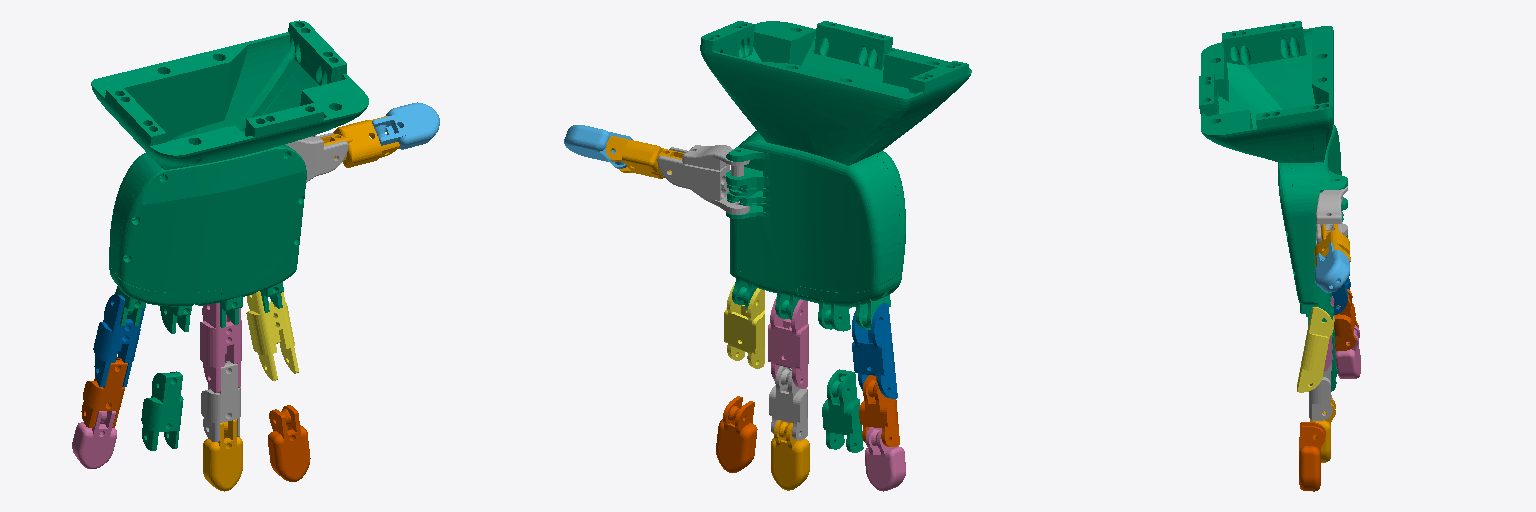
robot.urdf — hand_assembly:
<robot name="hand_assembly">
  <link name="world"/>
  <link name="world_frame">
    <inertial>
      <origin xyz="0 0 0" rpy="0 0 0"/>
      <mass value="0.0019949722"/>
      <inertia ixx="1.994972e-03" ixy="0.000000e+00" ixz="0.000000e+00" iyy="1.994972e-03" iyz="0.000000e+00" izz="1.994972e-03"/>
    </inertial>
  </link>
  <link name="Palm_Link">
    <inertial>
      <origin xyz="0.0044980786 0.0030506548 -0.017010718" rpy="-0.0049900126 -0.26403325 1.5394964"/>
      <mass value="0.89752977"/>
      <inertia ixx="1.994972e-03" ixy="-6.649047e-20" ixz="-5.026542e-19" iyy="1.994972e-03" iyz="3.768373e-19" izz="1.994972e-03"/>
    </inertial>
    <visual>
      <origin xyz="0.0044980786 0.0030506548 -0.017010718" rpy="-0.0049900116 -0.26403325 1.5394964"/>
      <geometry>
        <mesh filename="meshes/Palm.stl"/>
      </geometry>
    </visual>
  </link>
  <link name="Index_MCP_Link">
    <inertial>
      <origin xyz="0.0288724 -1.28993e-08 0.00378475" rpy="0 -1.5678519 3.1415927"/>
      <mass value="0.0065417532"/>
      <inertia ixx="1.994972e-03" ixy="0.000000e+00" ixz="-4.417642e-19" iyy="1.994972e-03" iyz="0.000000e+00" izz="1.994972e-03"/>
    </inertial>
    <visual>
      <origin xyz="-0.017010707 0.0049997573 0.00094885055" rpy="-0.025856405 -1.5662761 -3.1157306"/>
      <geometry>
        <mesh filename="meshes/Index_MCP.stl"/>
      </geometry>
    </visual>
  </link>
  <link name="Index_DIP_Link">
    <inertial>
      <origin xyz="0.000734414 -1.34435e-07 0.00333493" rpy="3.1415927 -1.5198579 0"/>
      <mass value="0.0059954899"/>
      <inertia ixx="1.994972e-03" ixy="0.000000e+00" ixz="-2.097920e-19" iyy="1.994972e-03" iyz="0.000000e+00" izz="1.994972e-03"/>
    </inertial>
    <visual>
      <origin xyz="-0.012089813 0.0049996406 0.00056263186" rpy="-3.1381599 -1.528242 -0.0034200715"/>
      <geometry>
        <mesh filename="meshes/Index_DIP.stl"/>
      </geometry>
    </visual>
  </link>
  <link name="Index_PIP_Link">
    <inertial>
      <origin xyz="-0.0274083 1.00211e-07 0.00320314" rpy="-1.0726051e-05 -1.5149729 -3.1415927"/>
      <mass value="0.0071215918"/>
      <inertia ixx="1.994972e-03" ixy="-5.263369e-24" ixz="6.166064e-19" iyy="1.994972e-03" iyz="-3.563358e-24" izz="1.994972e-03"/>
    </inertial>
    <visual>
      <origin xyz="-0.01421751 0.00040002873 -0.0013973391" rpy="-6.5290896e-06 -1.5384487 3.1415927"/>
      <geometry>
        <mesh filename="meshes/Index_PIP.stl"/>
      </geometry>
    </visual>
  </link>
  <link name="Middle_MCP_Link">
    <inertial>
      <origin xyz="0.0288724 -9.49408e-09 0.00378477" rpy="0 -1.5678519 3.1415927"/>
      <mass value="0.0065417332"/>
      <inertia ixx="1.994972e-03" ixy="0.000000e+00" ixz="-4.417642e-19" iyy="1.994972e-03" iyz="0.000000e+00" izz="1.994972e-03"/>
    </inertial>
    <visual>
      <origin xyz="-0.017010707 -2.4269882e-07 0.00094885048" rpy="-0.025856817 -1.5662761 -3.1157302"/>
      <geometry>
        <mesh filename="meshes/Middle_MCP.stl"/>
      </geometry>
    </visual>
  </link>
  <link name="Middle_DIP_Link">
    <inertial>
      <origin xyz="0.000734412 -1.31357e-07 0.00333494" rpy="3.1415927 -1.5198579 0"/>
      <mass value="0.0059954899"/>
      <inertia ixx="1.994972e-03" ixy="0.000000e+00" ixz="-2.097920e-19" iyy="1.994972e-03" iyz="0.000000e+00" izz="1.994972e-03"/>
    </inertial>
    <visual>
      <origin xyz="-0.012089813 -3.5937426e-07 0.00056263187" rpy="-3.1381599 -1.528242 -0.0034200315"/>
      <geometry>
        <mesh filename="meshes/Middle_DIP.stl"/>
      </geometry>
    </visual>
  </link>
  <link name="Middle_PIP_Link">
    <inertial>
      <origin xyz="-0.0274083 9.97469e-08 0.00320314" rpy="-9.7591396e-06 -1.5149729 -3.1415927"/>
      <mass value="0.0071215918"/>
      <inertia ixx="1.994972e-03" ixy="-6.035991e-24" ixz="6.059550e-19" iyy="1.994972e-03" iyz="-4.459908e-24" izz="1.994972e-03"/>
    </inertial>
    <visual>
      <origin xyz="-0.01321751 2.8730478e-08 -0.00089733903" rpy="-6.5291577e-06 -1.5384487 -3.1415927"/>
      <geometry>
        <mesh filename="meshes/Middle_PIP.stl"/>
      </geometry>
    </visual>
  </link>
  <link name="Ring_MCP_Link">
    <inertial>
      <origin xyz="0.0288724 -7.11557e-09 0.00378476" rpy="0 -1.5678519 3.1415927"/>
      <mass value="0.0065417532"/>
      <inertia ixx="1.994972e-03" ixy="0.000000e+00" ixz="-4.417642e-19" iyy="1.994972e-03" iyz="0.000000e+00" izz="1.994972e-03"/>
    </inertial>
    <visual>
      <origin xyz="-0.017010707 -2.4269845e-07 -5.1149453e-05" rpy="-0.025856405 -1.5662761 -3.1157306"/>
      <geometry>
        <mesh filename="meshes/Ring_MCP.stl"/>
      </geometry>
    </visual>
  </link>
  <link name="Ring_DIP_Link">
    <inertial>
      <origin xyz="0.000734409 -1.29347e-07 0.00333494" rpy="3.1415927 -1.5198579 0"/>
      <mass value="0.0059954699"/>
      <inertia ixx="1.994972e-03" ixy="0.000000e+00" ixz="-2.097920e-19" iyy="1.994972e-03" iyz="0.000000e+00" izz="1.994972e-03"/>
    </inertial>
    <visual>
      <origin xyz="-0.010089813 -3.5936923e-07 -0.00043736814" rpy="-3.1381599 -1.528242 -0.0034200715"/>
      <geometry>
        <mesh filename="meshes/Ring_DIP.stl"/>
      </geometry>
    </visual>
  </link>
  <link name="Ring_PIP_Link">
    <inertial>
      <origin xyz="-0.0274083 1.00945e-07 0.00320315" rpy="-9.3611761e-06 -1.5149743 -3.1415927"/>
      <mass value="0.0071215719"/>
      <inertia ixx="1.994972e-03" ixy="1.294407e-24" ixz="-6.179308e-19" iyy="1.994972e-03" iyz="6.666894e-25" izz="1.994972e-03"/>
    </inertial>
    <visual>
      <origin xyz="-0.01221751 2.8733929e-08 -0.0013973391" rpy="-6.5290896e-06 -1.5384487 3.1415927"/>
      <geometry>
        <mesh filename="meshes/Ring_PIP.stl"/>
      </geometry>
    </visual>
  </link>
  <link name="Pinky_MCP_Link">
    <inertial>
      <origin xyz="0.0268917 -2.1328e-08 0.00337657" rpy="3.1415843 -1.5626391 3.3496638e-10"/>
      <mass value="0.0061500803"/>
      <inertia ixx="1.994972e-03" ixy="-6.697728e-24" ixz="4.198403e-19" iyy="1.994972e-03" iyz="-1.746484e-24" izz="1.994972e-03"/>
    </inertial>
    <visual>
      <origin xyz="-0.014923683 -2.7768044e-07 -0.00038343923" rpy="-0.17765076 -1.5699965 -2.9639383"/>
      <geometry>
        <mesh filename="meshes/Pinky_MCP.stl"/>
      </geometry>
    </visual>
  </link>
  <link name="Pinky_DIP_Link">
    <inertial>
      <origin xyz="0.000757212 -1.38277e-07 0.00329943" rpy="3.1415927 -1.5105417 0"/>
      <mass value="0.0052057801"/>
      <inertia ixx="1.994972e-03" ixy="0.000000e+00" ixz="-8.916512e-19" iyy="1.994972e-03" iyz="0.000000e+00" izz="1.994972e-03"/>
    </inertial>
    <visual>
      <origin xyz="-0.010133962 -1.9624959e-07 -0.00017175322" rpy="-3.1402767 -1.5196872 -0.0013032404"/>
      <geometry>
        <mesh filename="meshes/Pinky_DIP.stl"/>
      </geometry>
    </visual>
  </link>
  <link name="Pinky_PIP_Link">
    <inertial>
      <origin xyz="-0.0236575 -8.70958e-08 0.00338829" rpy="-1.4411752e-05 -1.5192369 3.1415927"/>
      <mass value="0.0061220709"/>
      <inertia ixx="1.994972e-03" ixy="-1.161267e-24" ixz="2.055708e-19" iyy="1.994972e-03" iyz="-2.861918e-24" izz="1.994972e-03"/>
    </inertial>
    <visual>
      <origin xyz="-0.010574984 2.3663941e-07 -0.0016090746" rpy="-0.00099989006 -1.5175749 -3.1406522"/>
      <geometry>
        <mesh filename="meshes/Pinky_PIP.stl"/>
      </geometry>
    </visual>
  </link>
  <link name="Thumb_MCP_Link">
    <inertial>
      <origin xyz="0.0162526 -0.00468252 0.00333969" rpy="3.1003775 -1.4173801 0.022663807"/>
      <mass value="0.010507818"/>
      <inertia ixx="1.994972e-03" ixy="4.280014e-22" ixz="-3.874876e-20" iyy="1.994972e-03" iyz="-1.095995e-21" izz="1.994972e-03"/>
    </inertial>
    <visual>
      <origin xyz="0.015166612 -0.0046612658 -0.0030403717" rpy="3.1360295 -1.3928974 0.04430827"/>
      <geometry>
        <mesh filename="meshes/Thumb_MCP.stl"/>
      </geometry>
    </visual>
  </link>
  <link name="Thumb_DIP_Link">
    <inertial>
      <origin xyz="-0.000359156 5.0434e-05 0.00349653" rpy="2.4414404 -1.5564331 0.70653424"/>
      <mass value="0.0065838072"/>
      <inertia ixx="1.994972e-03" ixy="3.930417e-21" ixz="5.426342e-19" iyy="1.994972e-03" iyz="6.854821e-21" izz="1.994972e-03"/>
    </inertial>
    <visual>
      <origin xyz="-0.014087519 0.0026538262 0.00067346201" rpy="1.5867083 -0.74850712 1.5516028"/>
      <geometry>
        <mesh filename="meshes/Thumb_DIP.stl"/>
      </geometry>
    </visual>
  </link>
  <link name="Thumb_PIP_Link">
    <inertial>
      <origin xyz="-0.0282104 -4.96887e-08 0.00319437" rpy="2.6805167e-05 -1.510171 -3.1415927"/>
      <mass value="0.0069292566"/>
      <inertia ixx="1.994972e-03" ixy="-1.379075e-23" ixz="-8.948823e-19" iyy="1.994972e-03" iyz="-1.734883e-23" izz="1.994972e-03"/>
    </inertial>
    <visual>
      <origin xyz="-0.012666683 2.9212249e-08 -0.0013703634" rpy="-0.0026776913 -1.5341886 -3.138902"/>
      <geometry>
        <mesh filename="meshes/Thumb_PIP.stl"/>
      </geometry>
    </visual>
  </link>
  <joint name="fixed_world_to_world_frame" type="fixed">
    <parent link="world"/>
    <child link="world_frame"/>
    <origin xyz="0 0 0" rpy="0 0 0"/>
  </joint>
  <joint name="Palm_Joint" type="prismatic">
    <parent link="world_frame"/>
    <child link="Palm_Link"/>
    <origin xyz="0 0 0" rpy="0 0 0"/>
    <axis xyz="1 0 0"/>
    <limit lower="-1e-05" upper="0" effort="100" velocity="100"/>
  </joint>
  <joint name="Index_MCP_Joint" type="revolute">
    <parent link="Palm_Link"/>
    <child link="Index_MCP_Link"/>
    <origin xyz="0.0322 0.0146007 -0.08022" rpy="2.5325946 -1.3600992 2.1257049"/>
    <axis xyz="0 1 0"/>
    <limit lower="0" upper="2.44222" effort="100" velocity="100"/>
  </joint>
  <joint name="Index_DIP_Joint" type="revolute">
    <parent link="Index_MCP_Link"/>
    <child link="Index_DIP_Link"/>
    <origin xyz="-0.035057 0 0.002" rpy="0 0.17453 0"/>
    <axis xyz="0 1 0"/>
    <limit lower="0" upper="2.09" effort="100" velocity="100"/>
  </joint>
  <joint name="Index_PIP_Joint" type="revolute">
    <parent link="Index_DIP_Link"/>
    <child link="Index_PIP_Link"/>
    <origin xyz="-0.027 0.0045 0.001" rpy="0 0 0"/>
    <axis xyz="0 1 0"/>
    <limit lower="0" upper="2.09" effort="100" velocity="100"/>
  </joint>
  <joint name="Middle_MCP_Joint" type="revolute">
    <parent link="Palm_Link"/>
    <child link="Middle_MCP_Link"/>
    <origin xyz="0.01518 0.0135414 -0.081" rpy="-1.5707963 -1.5707963 0"/>
    <axis xyz="0 1 0"/>
    <limit lower="0" upper="2.44222" effort="100" velocity="100"/>
  </joint>
  <joint name="Middle_DIP_Joint" type="revolute">
    <parent link="Middle_MCP_Link"/>
    <child link="Middle_DIP_Link"/>
    <origin xyz="-0.034 0 0" rpy="0 0 0"/>
    <axis xyz="0 1 0"/>
    <limit lower="0" upper="2.09" effort="100" velocity="100"/>
  </joint>
  <joint name="Middle_PIP_Joint" type="revolute">
    <parent link="Middle_DIP_Link"/>
    <child link="Middle_PIP_Link"/>
    <origin xyz="-0.026 0 0.002" rpy="0 0 0"/>
    <axis xyz="0 1 0"/>
    <limit lower="0" upper="2.09" effort="100" velocity="100"/>
  </joint>
  <joint name="Ring_MCP_Joint" type="revolute">
    <parent link="Palm_Link"/>
    <child link="Ring_MCP_Link"/>
    <origin xyz="-0.0088 0.01453 -0.08009" rpy="-1.2805955 -1.4598013 -0.34861406"/>
    <axis xyz="0 1 0"/>
    <limit lower="0" upper="2.44222" effort="100" velocity="100"/>
  </joint>
  <joint name="Ring_DIP_Joint" type="revolute">
    <parent link="Ring_MCP_Link"/>
    <child link="Ring_DIP_Link"/>
    <origin xyz="-0.036 0 0" rpy="0 0 0"/>
    <axis xyz="0 1 0"/>
    <limit lower="0" upper="2.09" effort="100" velocity="100"/>
  </joint>
  <joint name="Ring_PIP_Joint" type="revolute">
    <parent link="Ring_DIP_Link"/>
    <child link="Ring_PIP_Link"/>
    <origin xyz="-0.025746 0 0" rpy="0 0 0"/>
    <axis xyz="0 1 0"/>
    <limit lower="0" upper="2.09" effort="100" velocity="100"/>
  </joint>
  <joint name="Pinky_MCP_Joint" type="revolute">
    <parent link="Palm_Link"/>
    <child link="Pinky_MCP_Link"/>
    <origin xyz="-0.030617 0.020313 -0.07398" rpy="-1.140397 -1.3618001 -0.55660297"/>
    <axis xyz="0 1 0"/>
    <limit lower="0" upper="2.44222" effort="100" velocity="100"/>
  </joint>
  <joint name="Pinky_DIP_Joint" type="revolute">
    <parent link="Pinky_MCP_Link"/>
    <child link="Pinky_DIP_Link"/>
    <origin xyz="-0.032 0 0" rpy="0 0.027735085 0"/>
    <axis xyz="0 1 0"/>
    <limit lower="0" upper="2.09" effort="100" velocity="100"/>
  </joint>
  <joint name="Pinky_PIP_Joint" type="revolute">
    <parent link="Pinky_DIP_Link"/>
    <child link="Pinky_PIP_Link"/>
    <origin xyz="-0.023 0 0.001" rpy="0 0 0"/>
    <axis xyz="0 1 0"/>
    <limit lower="0" upper="2.09" effort="100" velocity="100"/>
  </joint>
  <joint name="Thumb_CMC_Joint" type="revolute">
    <parent link="Palm_Link"/>
    <child link="Thumb_MCP_Link"/>
    <origin xyz="0.037688 0.022225 -0.025118" rpy="-1.5707992 -9.6355625e-08 0.031854956"/>
    <axis xyz="0 1 0"/>
    <limit lower="-3.314" upper="0" effort="100" velocity="100"/>
  </joint>
  <joint name="Thumb_MCP_Joint" type="revolute">
    <parent link="Thumb_MCP_Link"/>
    <child link="Thumb_DIP_Link"/>
    <origin xyz="0.033935 -0.0044094 -0.0065999" rpy="1.5707907 -7.5054754e-12 -3.1415853"/>
    <axis xyz="0 1 0"/>
    <limit lower="0" upper="1.57" effort="100" velocity="100"/>
  </joint>
  <joint name="Thumb_IP_Joint" type="revolute">
    <parent link="Thumb_DIP_Link"/>
    <child link="Thumb_PIP_Link"/>
    <origin xyz="-0.027794 0.0035 7e-06" rpy="-0.78539962 0 0"/>
    <axis xyz="0 1 0"/>
    <limit lower="0" upper="2.09" effort="100" velocity="100"/>
  </joint>
</robot>

--- Render facts (derived) ---
The picture shows the robot from 3 angles, left to right: view 1: azimuth 30°, elevation 25°; view 2: azimuth 150°, elevation 25°; view 3: azimuth 270°, elevation 25°; orthographic projection.
Model hand_assembly with 18 links and 17 joints (15 revolute, 1 prismatic, 1 fixed), rooted at world, posed every joint at zero.
Links seen in each view (by area): view 1: Palm_Link, Index_MCP_Link, Pinky_MCP_Link, Middle_MCP_Link, Ring_DIP_Link, Index_PIP_Link, Thumb_PIP_Link, Middle_PIP_Link, Middle_DIP_Link, Pinky_PIP_Link, Thumb_DIP_Link, Pinky_DIP_Link (+1 smaller); view 2: Palm_Link, Thumb_MCP_Link, Pinky_MCP_Link, Middle_MCP_Link, Ring_DIP_Link, Index_MCP_Link, Index_PIP_Link, Middle_PIP_Link, Middle_DIP_Link, Pinky_PIP_Link, Pinky_DIP_Link, Thumb_DIP_Link (+1 smaller); view 3: Palm_Link, Index_MCP_Link, Index_PIP_Link, Thumb_PIP_Link, Thumb_MCP_Link, Pinky_DIP_Link, Middle_DIP_Link, Pinky_PIP_Link, Thumb_DIP_Link.
Boxes of the visible links, bbox=[...] form: Palm_Link: bbox=[91, 20, 368, 333]; Index_MCP_Link: bbox=[246, 291, 298, 380]; Pinky_MCP_Link: bbox=[93, 295, 144, 386]; Middle_MCP_Link: bbox=[200, 303, 241, 392]; Ring_DIP_Link: bbox=[141, 371, 183, 450]; Index_PIP_Link: bbox=[268, 405, 310, 481]; Thumb_PIP_Link: bbox=[372, 102, 439, 149]; Middle_PIP_Link: bbox=[203, 419, 242, 491]; Middle_DIP_Link: bbox=[201, 361, 240, 441]; Pinky_PIP_Link: bbox=[72, 411, 116, 468]; Thumb_DIP_Link: bbox=[320, 116, 399, 167]; Pinky_DIP_Link: bbox=[81, 358, 127, 427]; Palm_Link: bbox=[700, 21, 971, 331]; Thumb_MCP_Link: bbox=[657, 145, 749, 214]; Pinky_MCP_Link: bbox=[852, 303, 897, 398]; Middle_MCP_Link: bbox=[768, 297, 808, 388]; Ring_DIP_Link: bbox=[822, 369, 863, 452]; Index_MCP_Link: bbox=[724, 284, 764, 368]; Index_PIP_Link: bbox=[716, 396, 757, 472]; Middle_PIP_Link: bbox=[771, 420, 809, 490]; Middle_DIP_Link: bbox=[769, 366, 807, 440]; Pinky_PIP_Link: bbox=[865, 427, 905, 491]; Pinky_DIP_Link: bbox=[859, 375, 899, 446]; Thumb_DIP_Link: bbox=[606, 136, 684, 178]; Palm_Link: bbox=[1199, 21, 1347, 325]; Index_MCP_Link: bbox=[1297, 307, 1334, 392]; Index_PIP_Link: bbox=[1299, 422, 1325, 491]; Thumb_PIP_Link: bbox=[1314, 242, 1349, 292]; Thumb_MCP_Link: bbox=[1316, 186, 1347, 244]; Pinky_DIP_Link: bbox=[1334, 289, 1358, 350]; Middle_DIP_Link: bbox=[1309, 363, 1332, 420]; Pinky_PIP_Link: bbox=[1335, 325, 1360, 378]; Thumb_DIP_Link: bbox=[1314, 224, 1350, 266].
Size in the robot's own frame: 0.1798 by 0.0813 by 0.2172 metres.
Meshes: 16 distinct files referenced, 13 mesh visuals loaded (13 binary STL); not drawn: 3 (reference not matched to a file when rendering).
